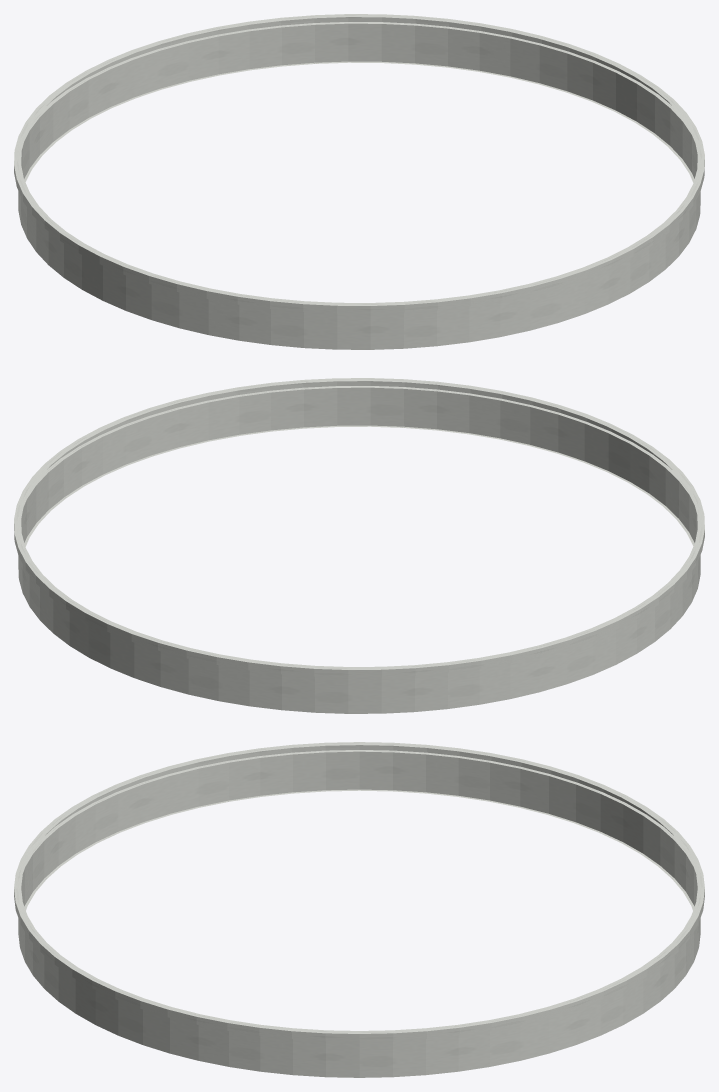
The model's file is body.obj.
3 views of the same model, one above another, from view 1: azimuth 30°, elevation 25°; view 2: azimuth 150°, elevation 25°; view 3: azimuth 270°, elevation 25° (orthographic).
Bounding box in the file's own units: 0.959 × 0.07 × 0.959.
